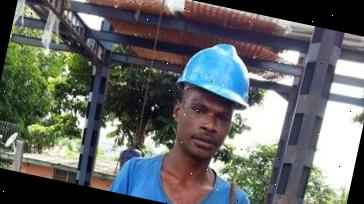helmet: (174, 34, 260, 111)
no_wear: (107, 145, 264, 204)
